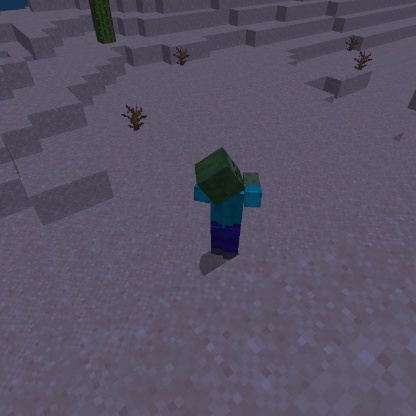zombie: (189, 144, 266, 263)
